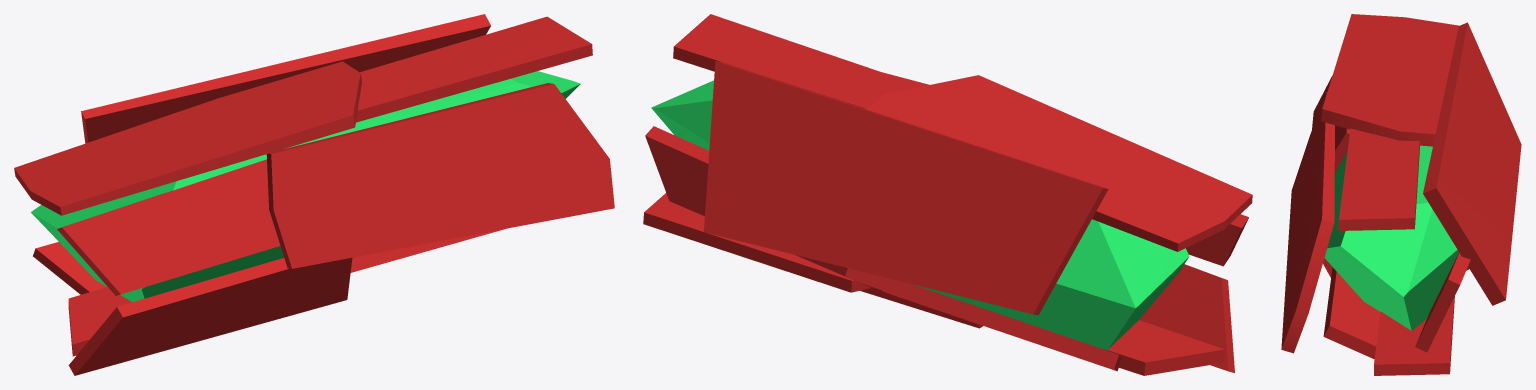
The model's file is SM_branchpart_A.fbx.
3 views of the same model, side by side, from view 1: azimuth 30°, elevation 25°; view 2: azimuth 150°, elevation 25°; view 3: azimuth 270°, elevation 25° (orthographic). The views are drawn at different scales.
Parts seen in each view (by area): view 1: SM_branchpart_A; view 2: SM_branchpart_A; view 3: SM_branchpart_A.
Part boxes in pixels (left/top/right/bottom): SM_branchpart_A: left=14, top=14, right=614, bottom=375; SM_branchpart_A: left=643, top=14, right=1252, bottom=375; SM_branchpart_A: left=1281, top=14, right=1521, bottom=375.
Size of the model in its own units: 66.48 by 25.38 by 26.46.
